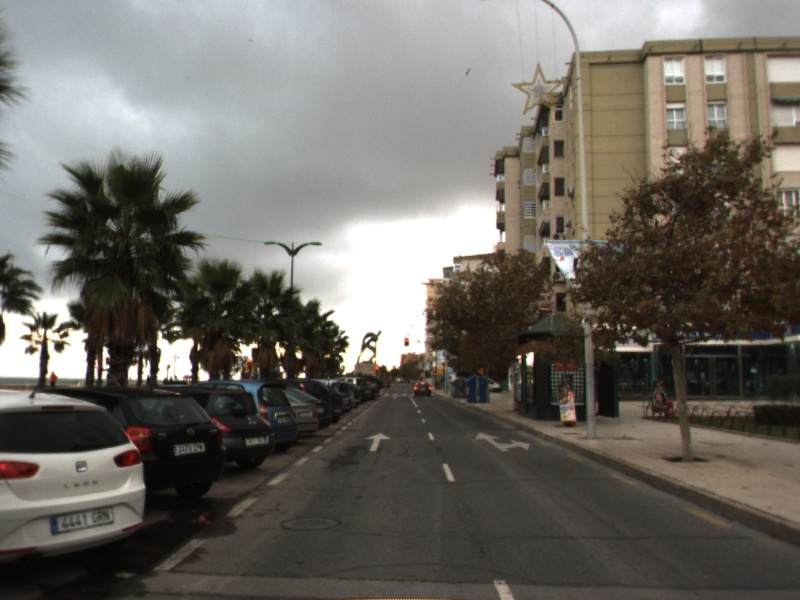STRAIGHT: (364, 431, 392, 453)
STRAIGHT_RIGHT: (473, 430, 532, 453)
